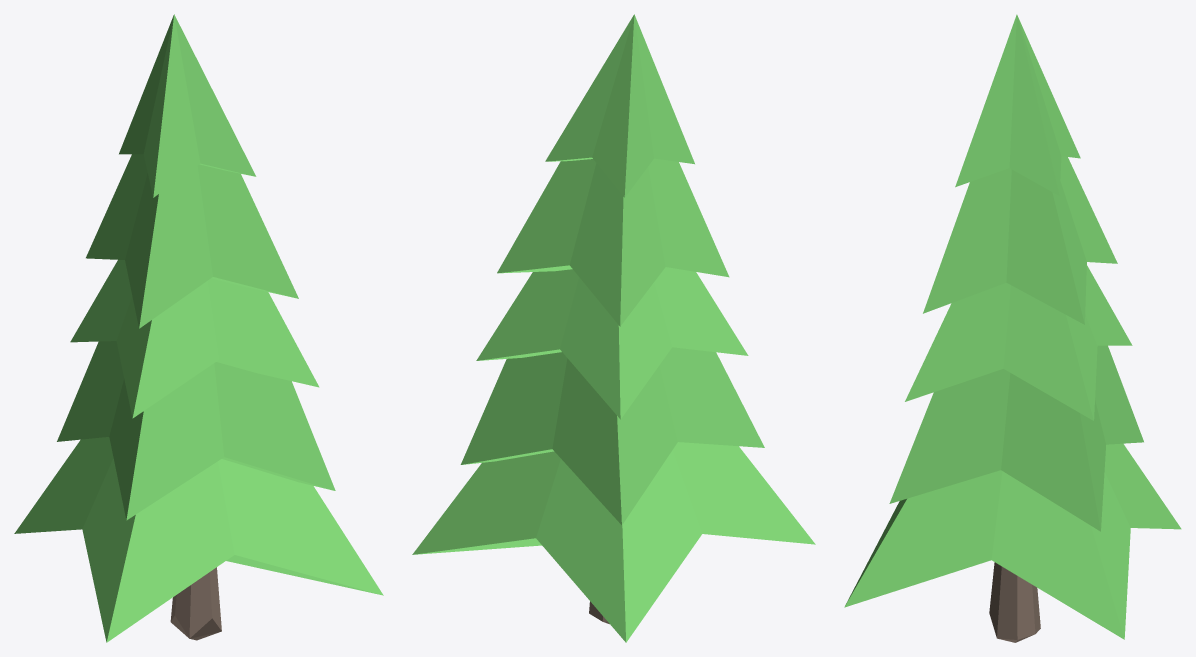
Rendered from Abete 1.fbx.
The picture shows the model from 3 angles, left to right: view 1: azimuth 30°, elevation 25°; view 2: azimuth 150°, elevation 25°; view 3: azimuth 270°, elevation 25°; orthographic projection. The views are drawn at different scales.
Parts seen in each view (by area): view 1: Cube; view 2: Cube; view 3: Cube.
Boxes of the visible parts, <box> form: Cube: <box>14,14,383,642</box>; Cube: <box>412,14,815,642</box>; Cube: <box>844,14,1181,642</box>.
Bounding box in the file's own units: 101 × 204 × 101.
